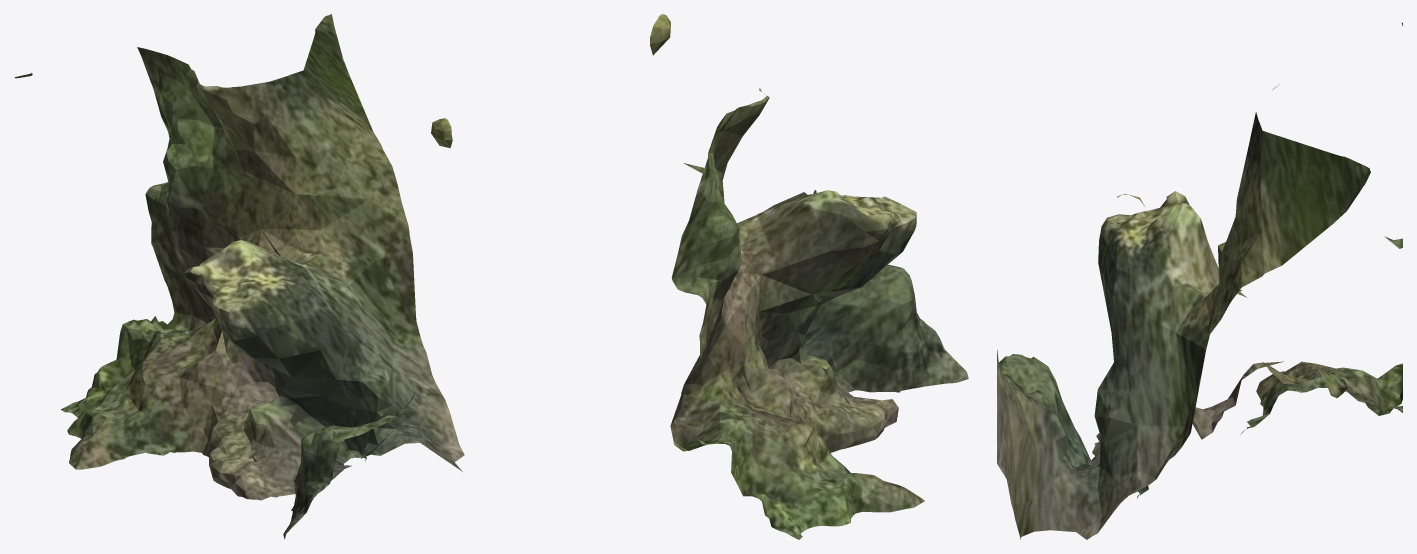
3 renders of one model, left to right at view 1: azimuth 30°, elevation 25°; view 2: azimuth 150°, elevation 25°; view 3: azimuth 270°, elevation 25°, orthographic. The views are drawn at different scales.
Bounding box in the file's own units: 5.5 × 5.9 × 5.9.
4 materials, 4 textured.
